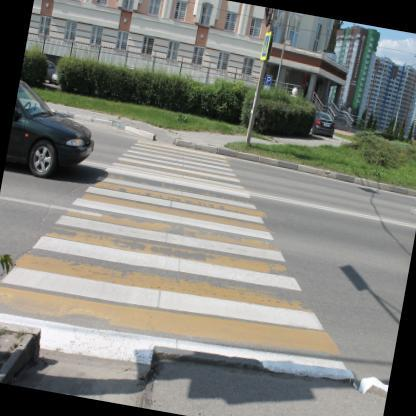road_sign: (260, 31, 271, 61), (263, 68, 277, 88)
